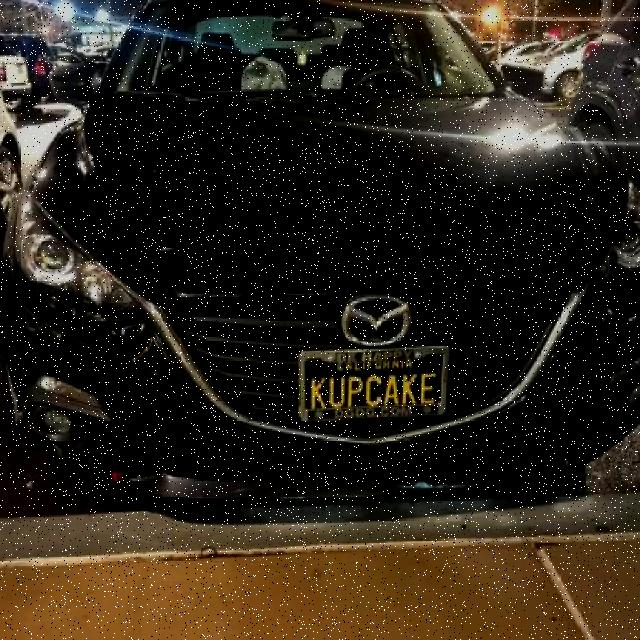licenseplate: (297, 346, 451, 422)
